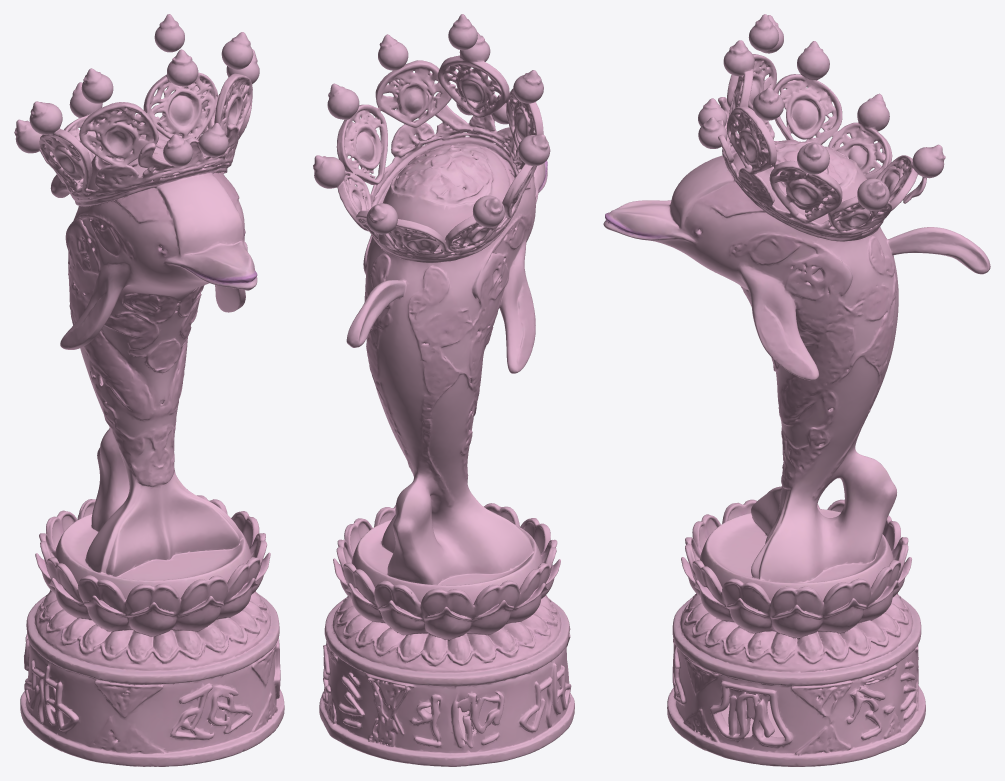
File: queen.glb
3 renders of one model, left to right at view 1: azimuth 30°, elevation 25°; view 2: azimuth 150°, elevation 25°; view 3: azimuth 270°, elevation 25°, orthographic. The views are drawn at different scales.
Parts seen in each view (by area): view 1: world; view 2: world; view 3: world.
Part boxes in pixels (x1,y1,x2,y2): world: [14, 14, 284, 766]; world: [313, 14, 574, 766]; world: [603, 14, 990, 766].
Bounding box in the file's own units: 0.3347 × 1 × 0.5028.
1 material, 1 textured.
